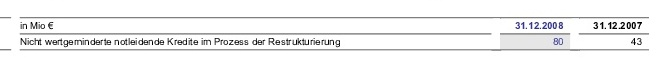table: (0, 0, 664, 64)
